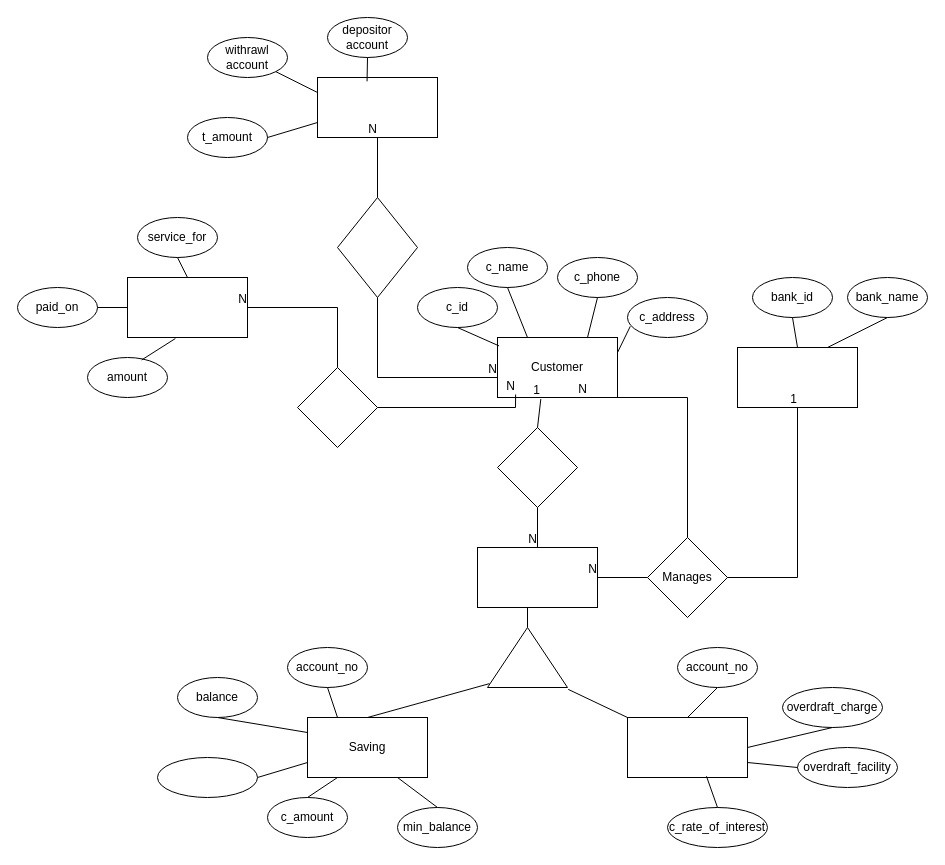
Image size: 945x865. Some labels were removed from this diagram. Each missing label, with the centre of its shape:
"Account" belongs at pixel 537 577.
"Bank" belongs at pixel 797 377.
"Bill" belongs at pixel 187 307.
"Current" belongs at pixel 687 747.
"Have" belongs at pixel 537 467.
"Is A" belongs at pixel 527 657.
"Money" belongs at pixel 377 247.
"Pay" belongs at pixel 337 407.
"rate_of_interest" belongs at pixel 207 777.
"Transaction" belongs at pixel 377 107.
